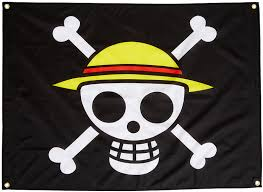Jolly Roger Flag: (1, 1, 262, 189)
